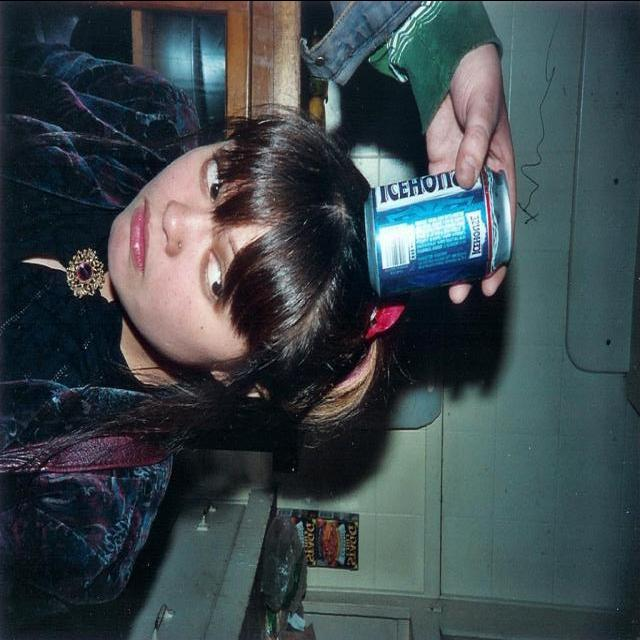can: (358, 164, 529, 296)
